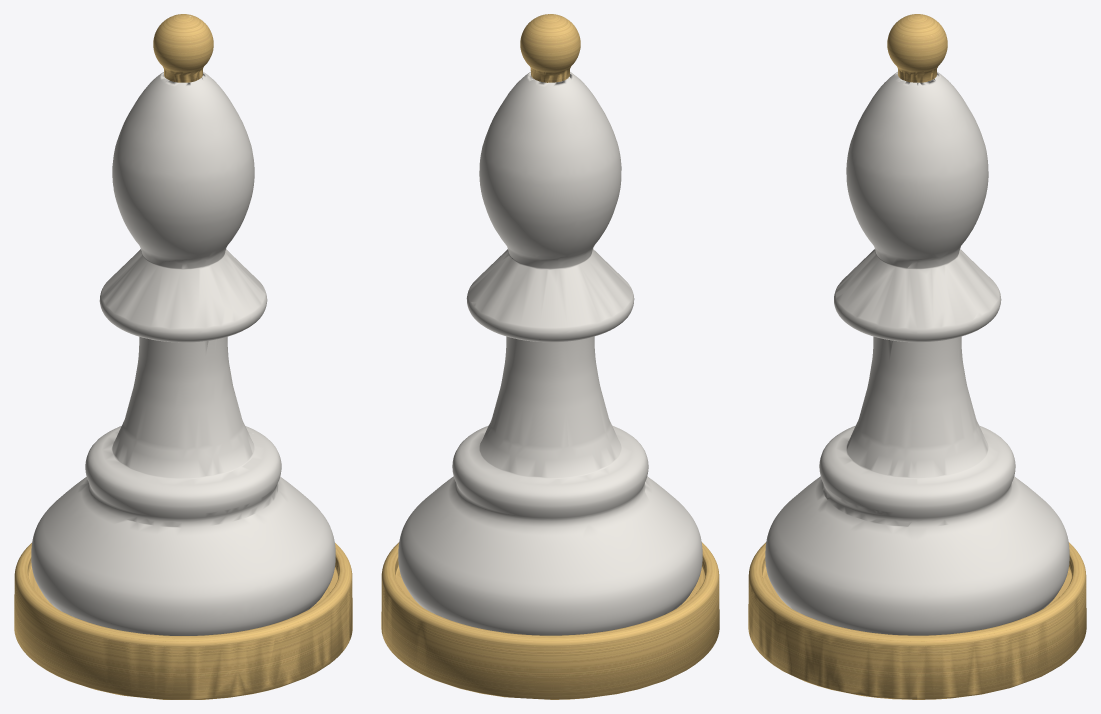
The model's file is bishop-white-hd.glb.
The picture shows the model from 3 angles, left to right: view 1: azimuth 30°, elevation 25°; view 2: azimuth 150°, elevation 25°; view 3: azimuth 270°, elevation 25°; orthographic projection.
Visible parts, largest first — view 1: Aurum Ivoire – Bishop; view 2: Aurum Ivoire – Bishop; view 3: Aurum Ivoire – Bishop.
Boxes of the visible parts, bbox=[...] form: Aurum Ivoire – Bishop: bbox=[14, 14, 352, 699]; Aurum Ivoire – Bishop: bbox=[381, 14, 719, 699]; Aurum Ivoire – Bishop: bbox=[748, 14, 1086, 699].
Size of the model in its own units: 0.6609 by 1.32 by 0.6607.
2 materials, 1 textured.
